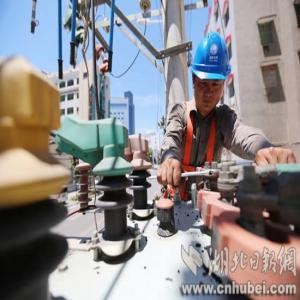blue: (190, 30, 232, 119)
